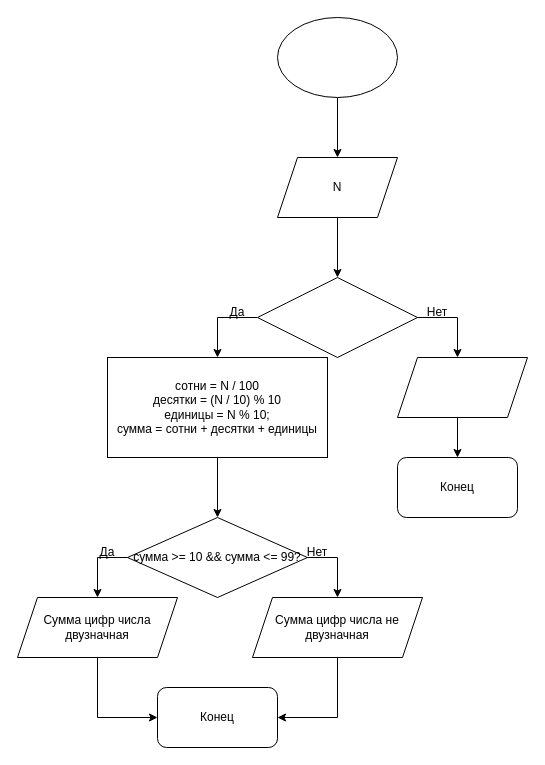
The diagram is 545 pixels wide and 765 high, and some of its shapes have lost their labels. The centre of each missing label's shape, as x and y in pixels:
N >= 1000?: point (337, 317)
Введите N меньше 1000: point (462, 387)
Начало: point (337, 57)
